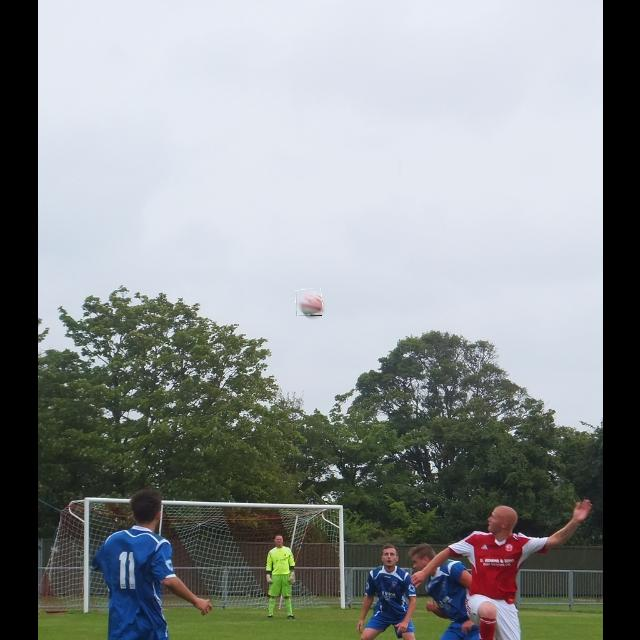Football: (296, 288, 322, 316)
